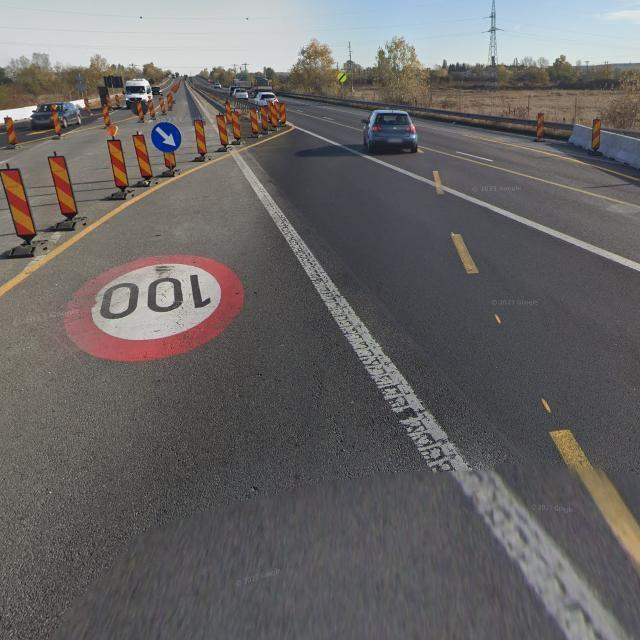forb_speed_over_100: (65, 252, 246, 366)
